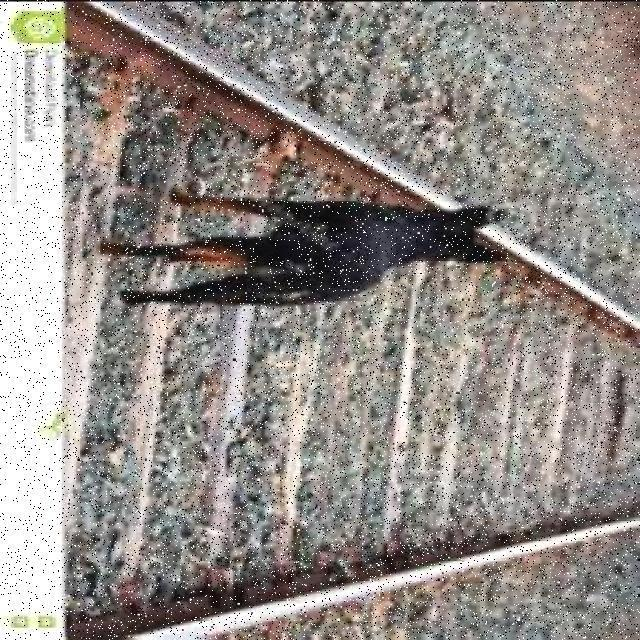danger: (98, 181, 502, 325)
rail: (61, 1, 639, 637)
